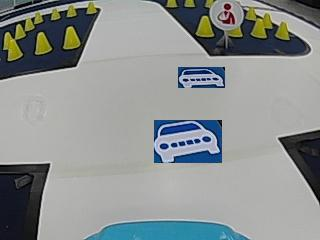cone: (195, 15, 214, 38), (62, 26, 80, 49), (34, 31, 52, 54), (6, 37, 22, 60), (251, 19, 266, 38), (275, 21, 290, 40), (85, 1, 97, 15), (15, 23, 26, 38), (24, 17, 35, 30), (50, 7, 61, 20), (66, 5, 77, 17), (246, 6, 256, 19), (34, 11, 44, 23), (165, 0, 178, 8), (183, 0, 196, 8)
patient: (213, 0, 241, 27)
